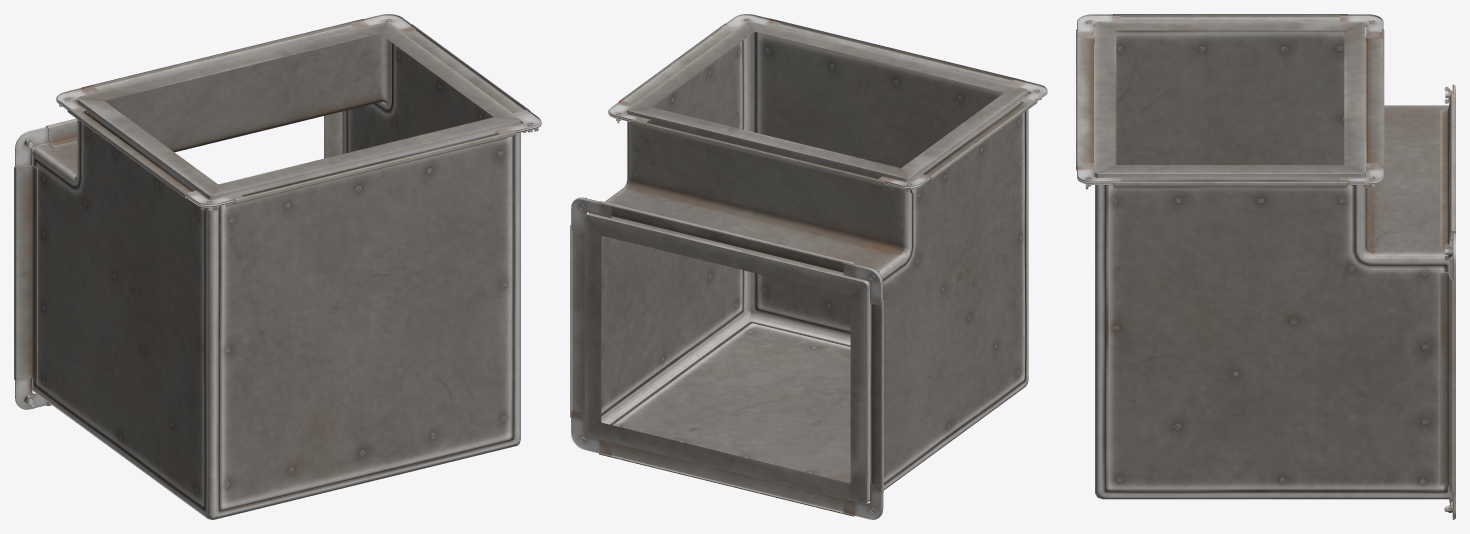
File: corner_01.glb
3 views of the same model, side by side, from view 1: azimuth 30°, elevation 25°; view 2: azimuth 150°, elevation 25°; view 3: azimuth 270°, elevation 25° (orthographic). The views are drawn at different scales.
Visible parts, largest first — view 1: modular_airduct_rectangular_01_corner_01.001; view 2: modular_airduct_rectangular_01_corner_01.001; view 3: modular_airduct_rectangular_01_corner_01.001.
Boxes of the visible parts, x1,y1,x2,y2 form: modular_airduct_rectangular_01_corner_01.001: [14, 14, 541, 519]; modular_airduct_rectangular_01_corner_01.001: [570, 14, 1047, 519]; modular_airduct_rectangular_01_corner_01.001: [1076, 14, 1455, 519].
Bounding box in the file's own units: 0.6634 × 0.6313 × 0.6313.
Materials: 1 (1 with a texture image).
